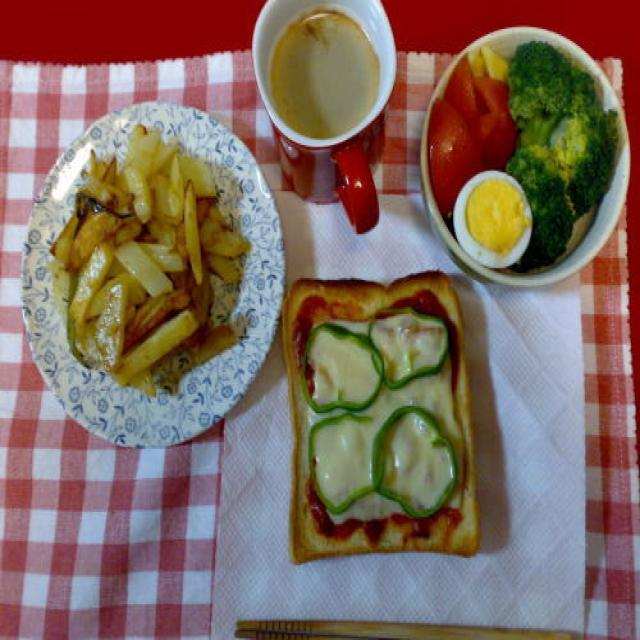面包点心: (310, 295, 558, 640)
